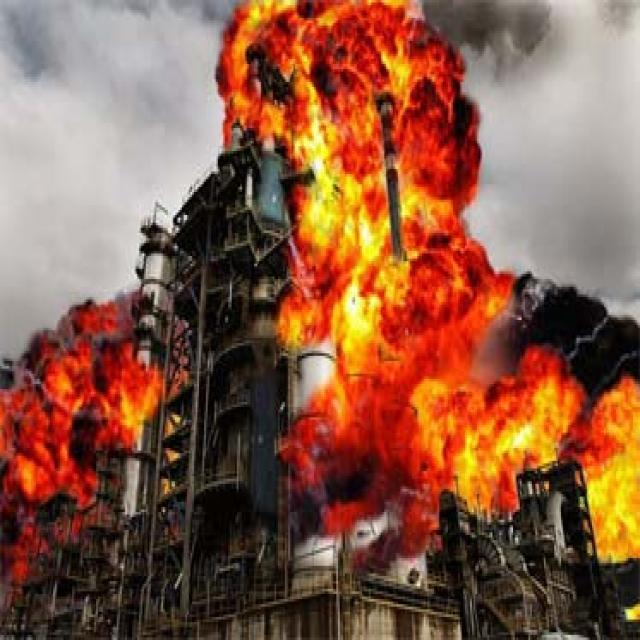fire: (245, 24, 476, 318), (409, 342, 640, 556), (0, 294, 180, 528)
